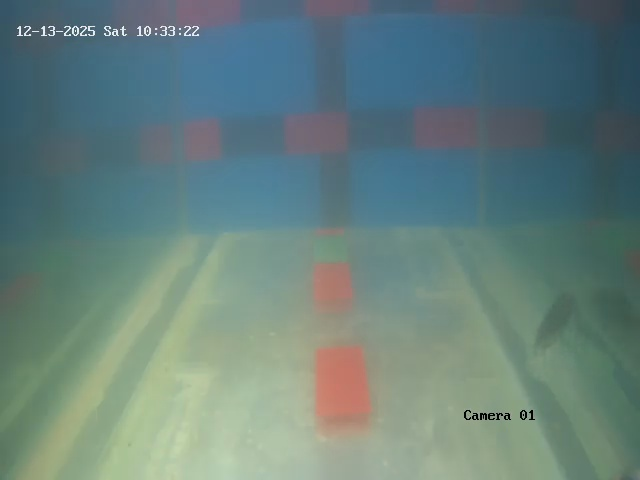fish: (526, 288, 585, 359)
